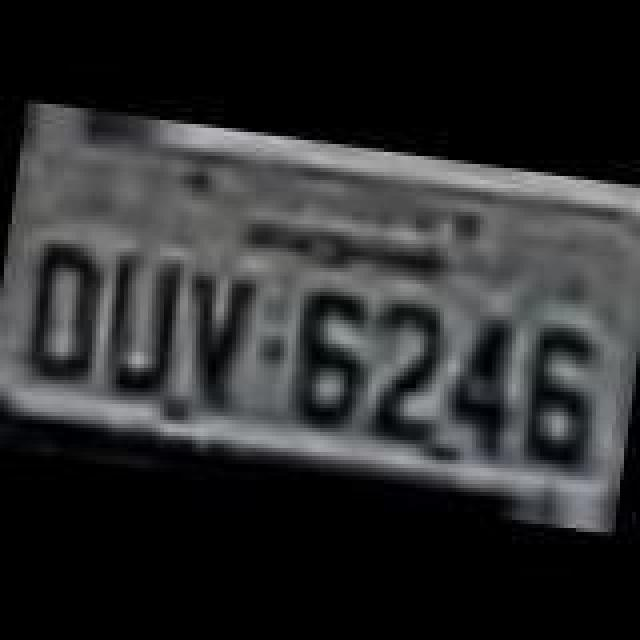2: (356, 288, 460, 448)
4: (430, 308, 530, 460)
6: (512, 320, 608, 480), (284, 284, 372, 436)
O: (18, 240, 110, 392)
U: (96, 248, 192, 400)
V: (172, 264, 260, 424)
